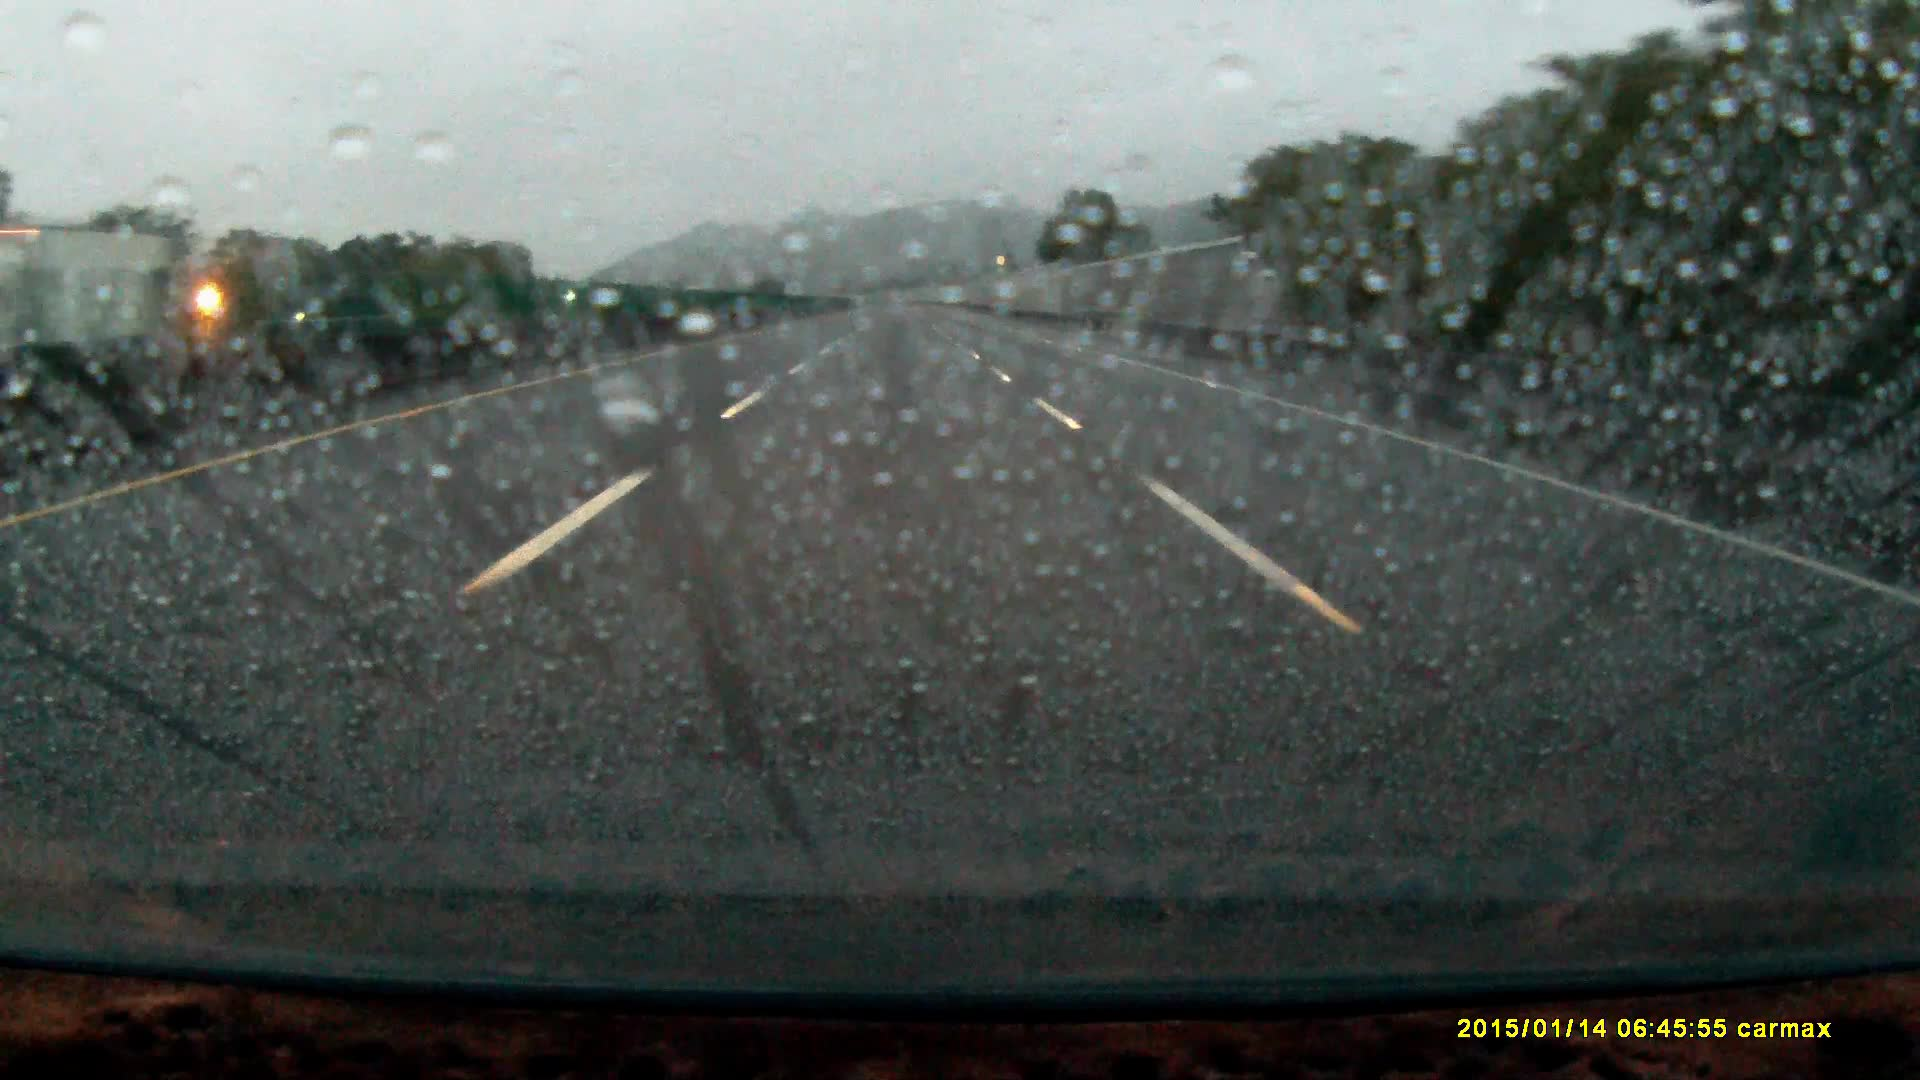vehicle: (1, 222, 154, 373)
